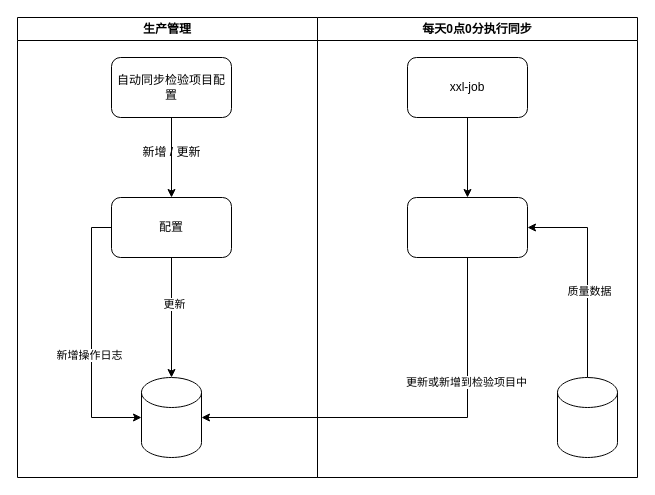
Some shapes in this 655 by 495 pixel diagram are drawn without their labels. Here are the shapes that lost their labels. From the top down, the centre of each, then its label:
pixel 467 227: 计算每天的平均检验值 (低热位值）
pixel 171 417: 能源热值
